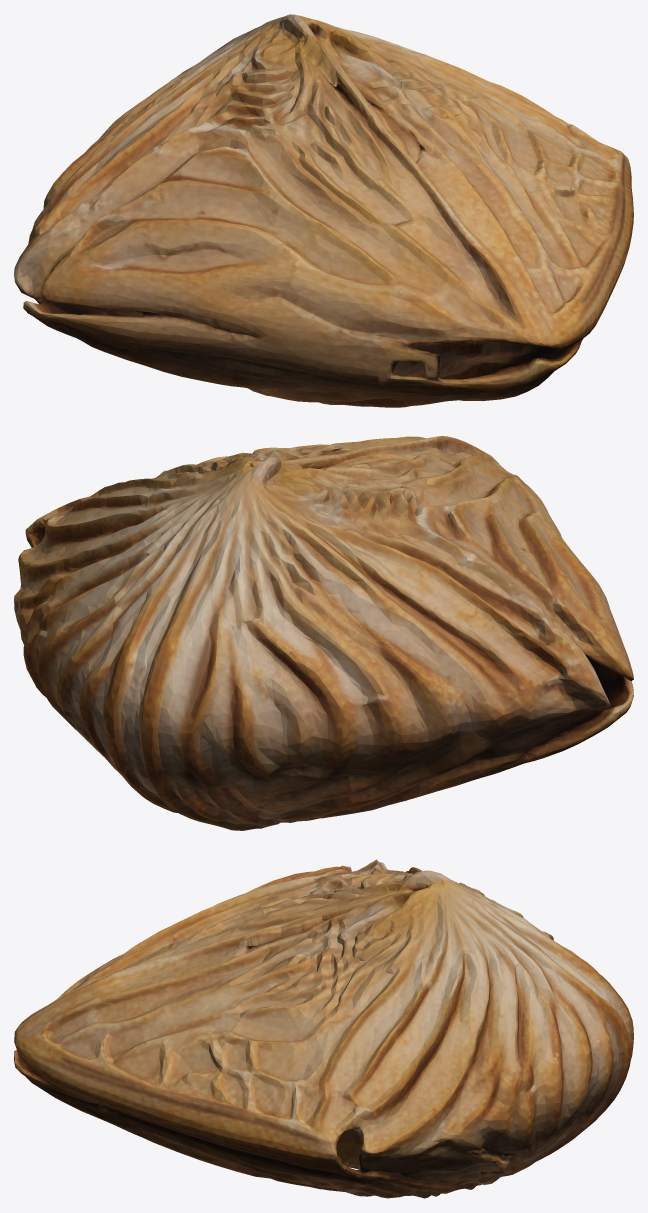
3 views of the same model, one above another, from view 1: azimuth 30°, elevation 25°; view 2: azimuth 150°, elevation 25°; view 3: azimuth 270°, elevation 25° (orthographic). The views are drawn at different scales.
Parts seen in each view (by area): view 1: pholadomya_source_shell, pholadomya_upper_slit_repair, pholadomya_upper_puncture_repair; view 2: pholadomya_source_shell; view 3: pholadomya_source_shell, pholadomya_upper_slit_repair.
Boxes of the visible parts, box(x1,y1,x2,y2) form: pholadomya_source_shell: box(14, 14, 633, 407); pholadomya_upper_slit_repair: box(367, 101, 420, 161); pholadomya_upper_puncture_repair: box(301, 35, 339, 86); pholadomya_source_shell: box(14, 436, 633, 830); pholadomya_source_shell: box(14, 859, 633, 1198); pholadomya_upper_slit_repair: box(239, 915, 324, 946).
Size of the model in its own units: 0.999 by 0.5774 by 0.9993.
4 materials, 4 textured.
